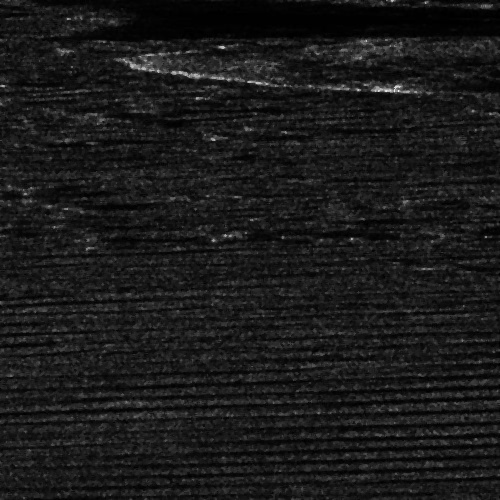object: (184, 28, 500, 91), (0, 0, 127, 34)
shadow: (0, 0, 500, 34)
